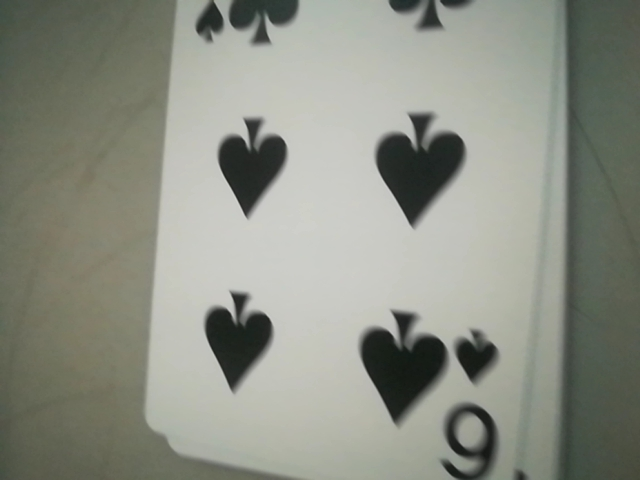ht 6: (431, 317, 512, 480)
